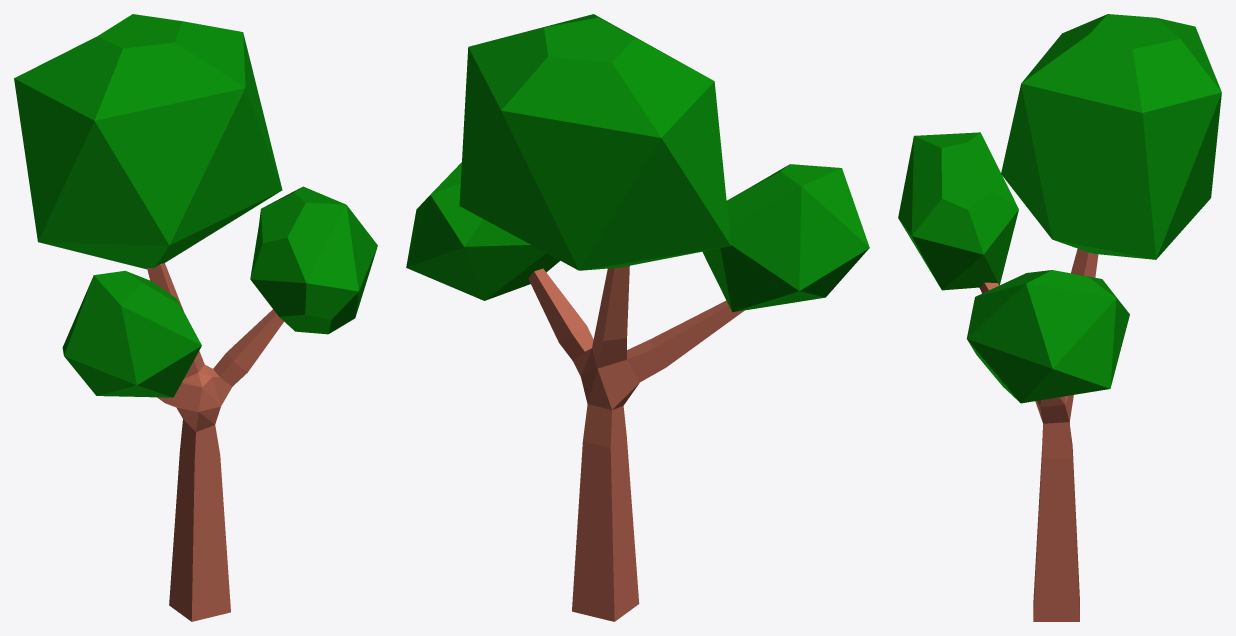
File: tree_5a.fbx
3 views of the same model, side by side, from view 1: azimuth 30°, elevation 25°; view 2: azimuth 150°, elevation 25°; view 3: azimuth 270°, elevation 25° (orthographic). The views are drawn at different scales.
Parts seen in each view (by area): view 1: tree_5a; view 2: tree_5a; view 3: tree_5a.
Boxes of the visible parts, bbox=[...] form: tree_5a: bbox=[14, 14, 377, 621]; tree_5a: bbox=[406, 14, 869, 621]; tree_5a: bbox=[898, 14, 1221, 621].
Size of the model in its own units: 430 by 625 by 320.
